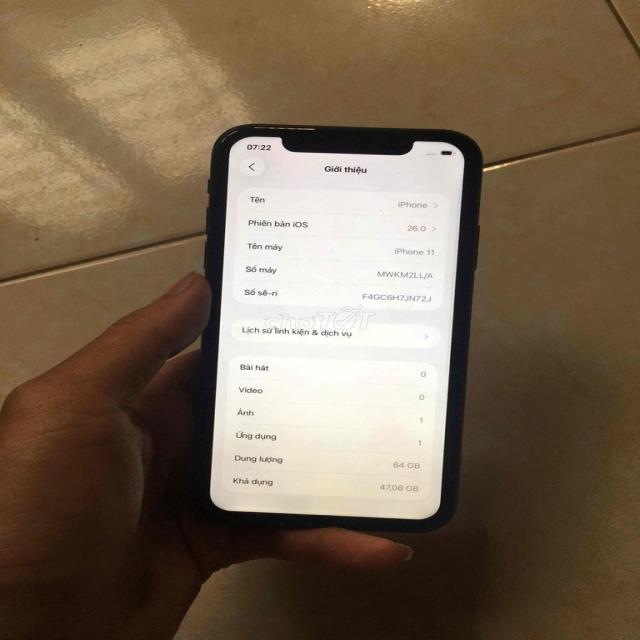gen_11: (189, 126, 481, 531)
